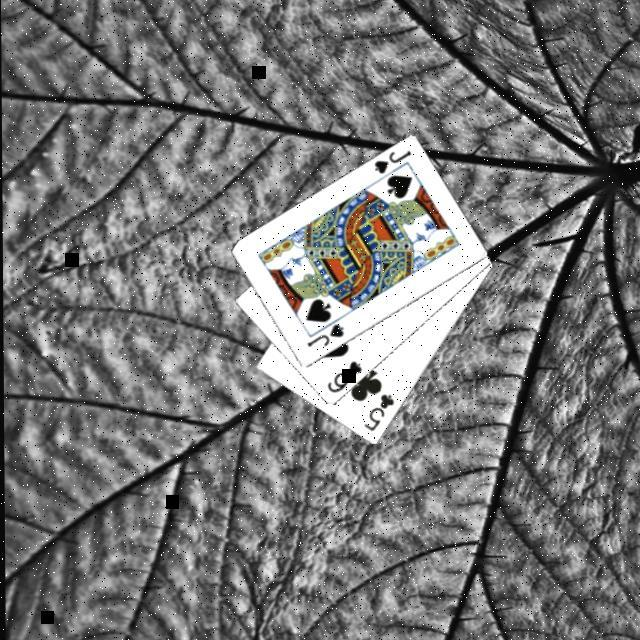5C: (358, 392, 394, 437)
6S: (322, 360, 362, 398)
JS: (368, 149, 412, 179), (300, 323, 344, 352)
